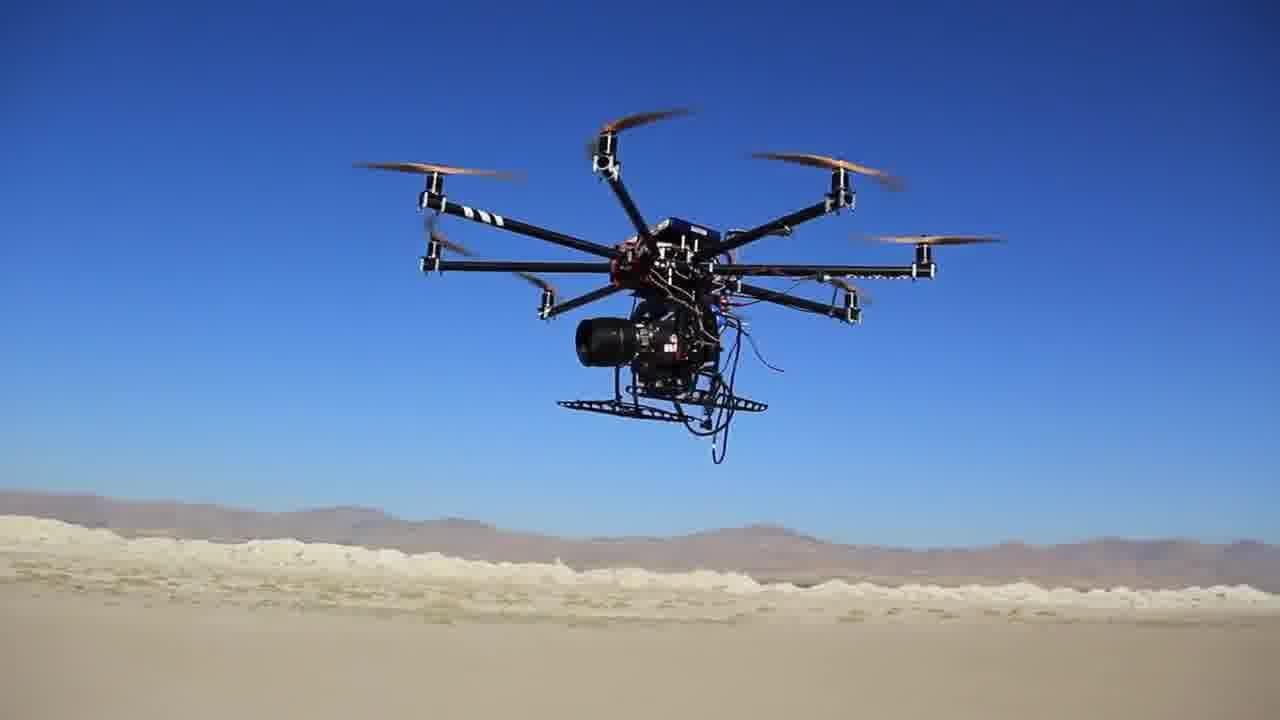drone: (384, 105, 857, 444)
